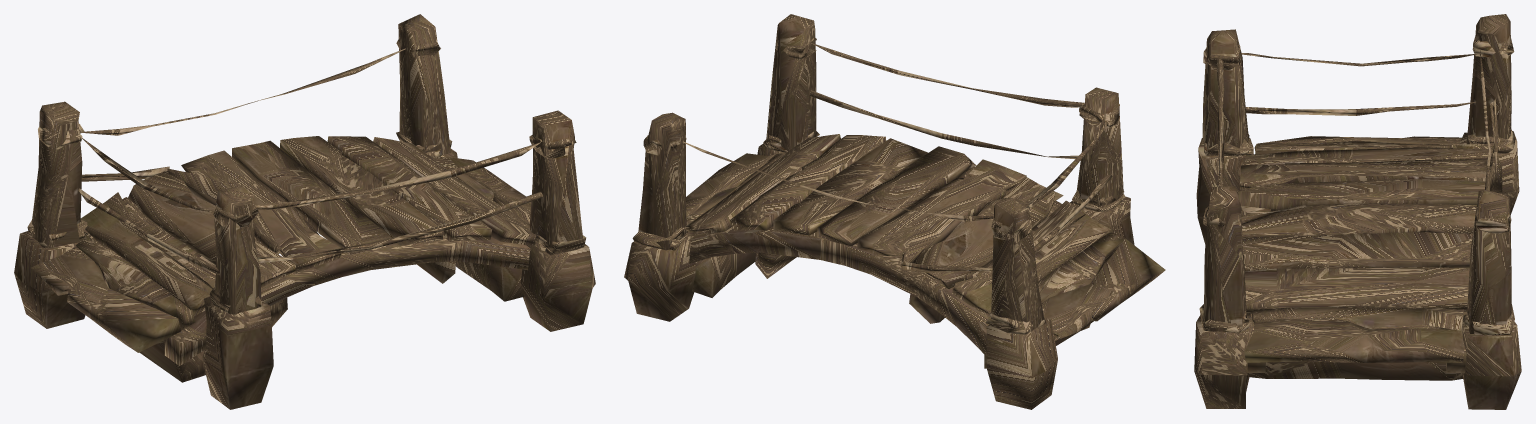
Rendered from plank_bridge.glb.
The picture shows the model from 3 angles, left to right: view 1: azimuth 30°, elevation 25°; view 2: azimuth 150°, elevation 25°; view 3: azimuth 270°, elevation 25°; orthographic projection. The views are drawn at different scales.
Bounding box in the file's own units: 0.9512 × 0.4317 × 0.6045.
Materials: 1 (1 with a texture image).
